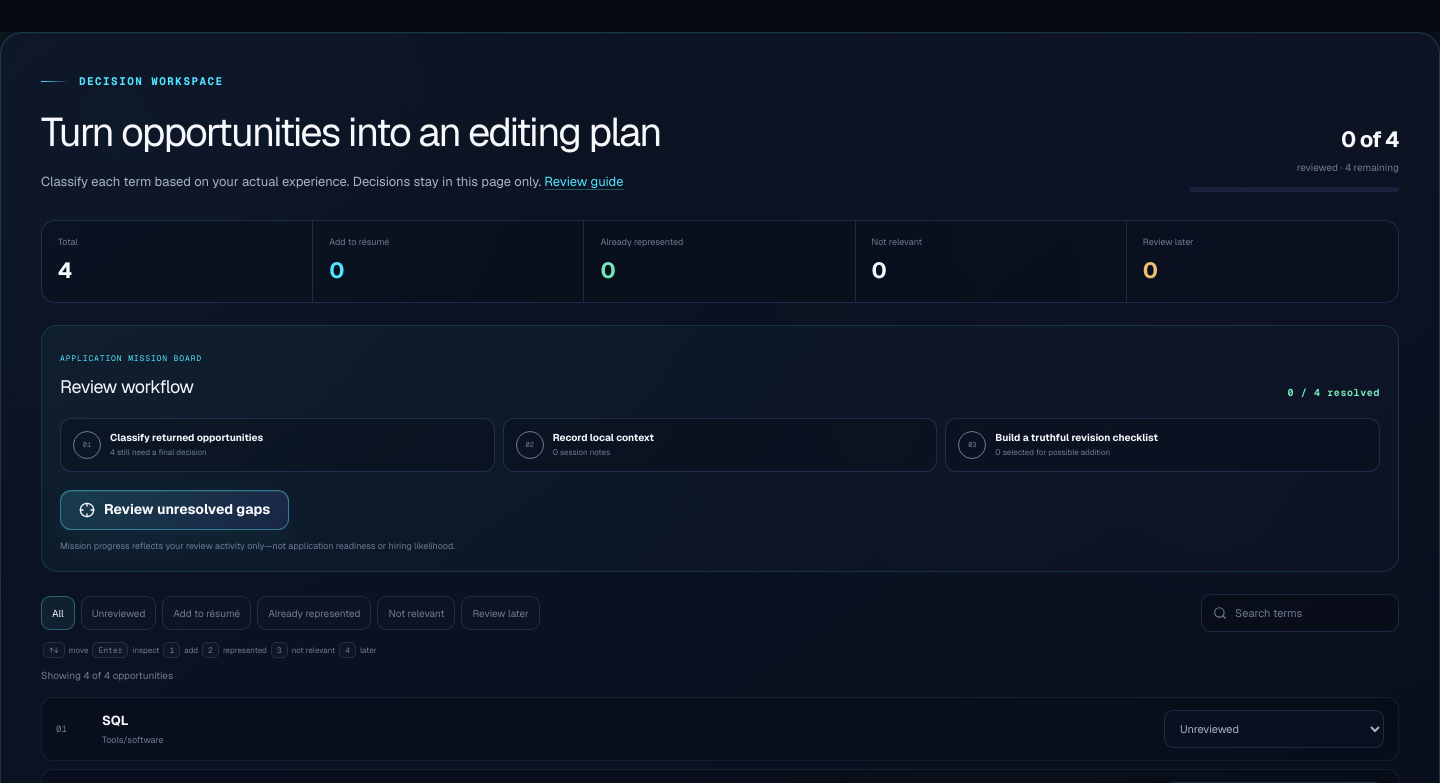
ReviewWorkspace › starts unreviewed and tracks every status and status change
The image size is (1440, 783).
Expected: the text "0 of 4" is shown, x1=1341 y1=125 x2=1399 y2=153
Expected: the text "reviewed · 4 remaining" is shown, x1=1297 y1=161 x2=1399 y2=174
Select "Add to résumé" in the dropdown named "Review status for SQL" in the row of "SQL": point(1274, 729) x1=1164 y1=710 x2=1384 y2=748
(page scrolled)
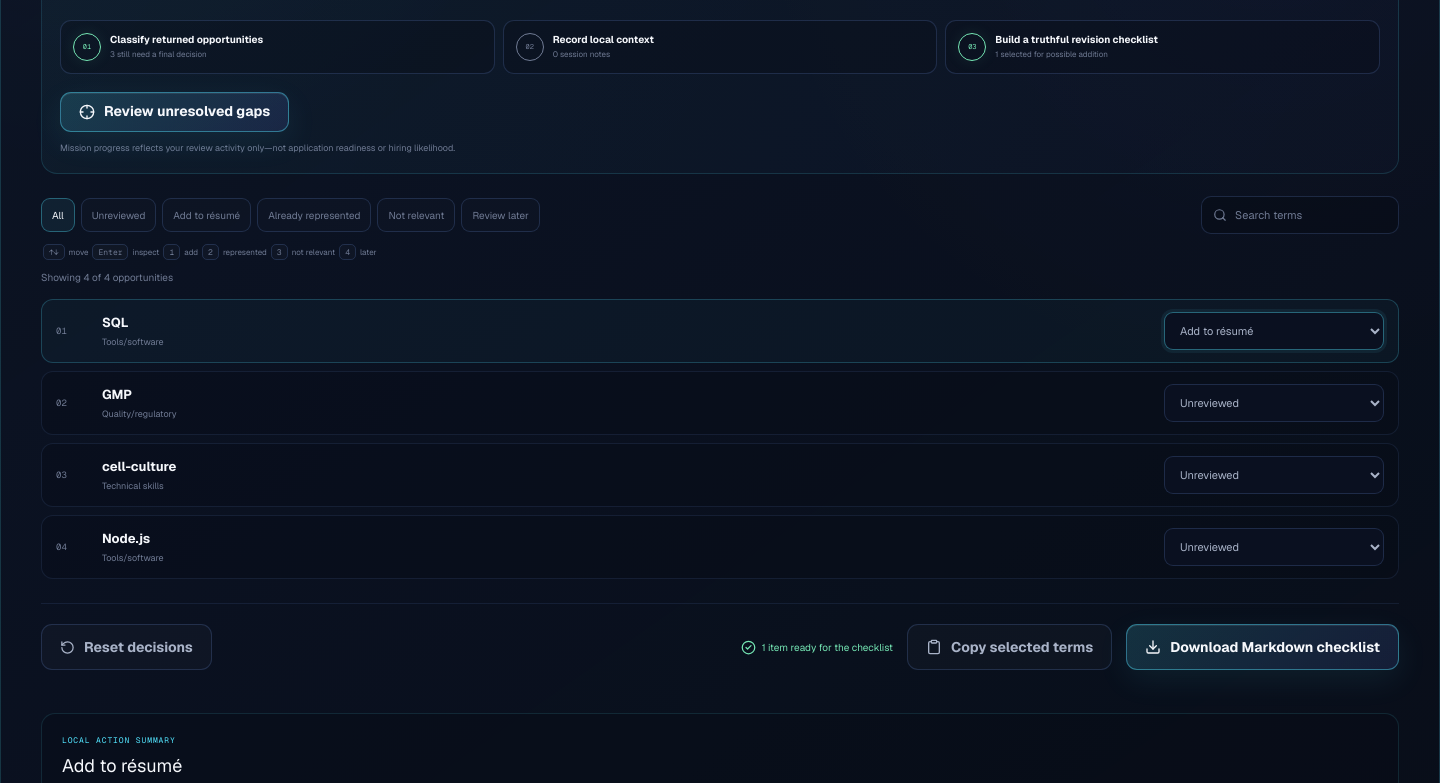
Select "Already represented" in the dropdown named "Review status for GMP" in the row of "Quality/regulatory": point(1274, 403) x1=1164 y1=384 x2=1384 y2=422
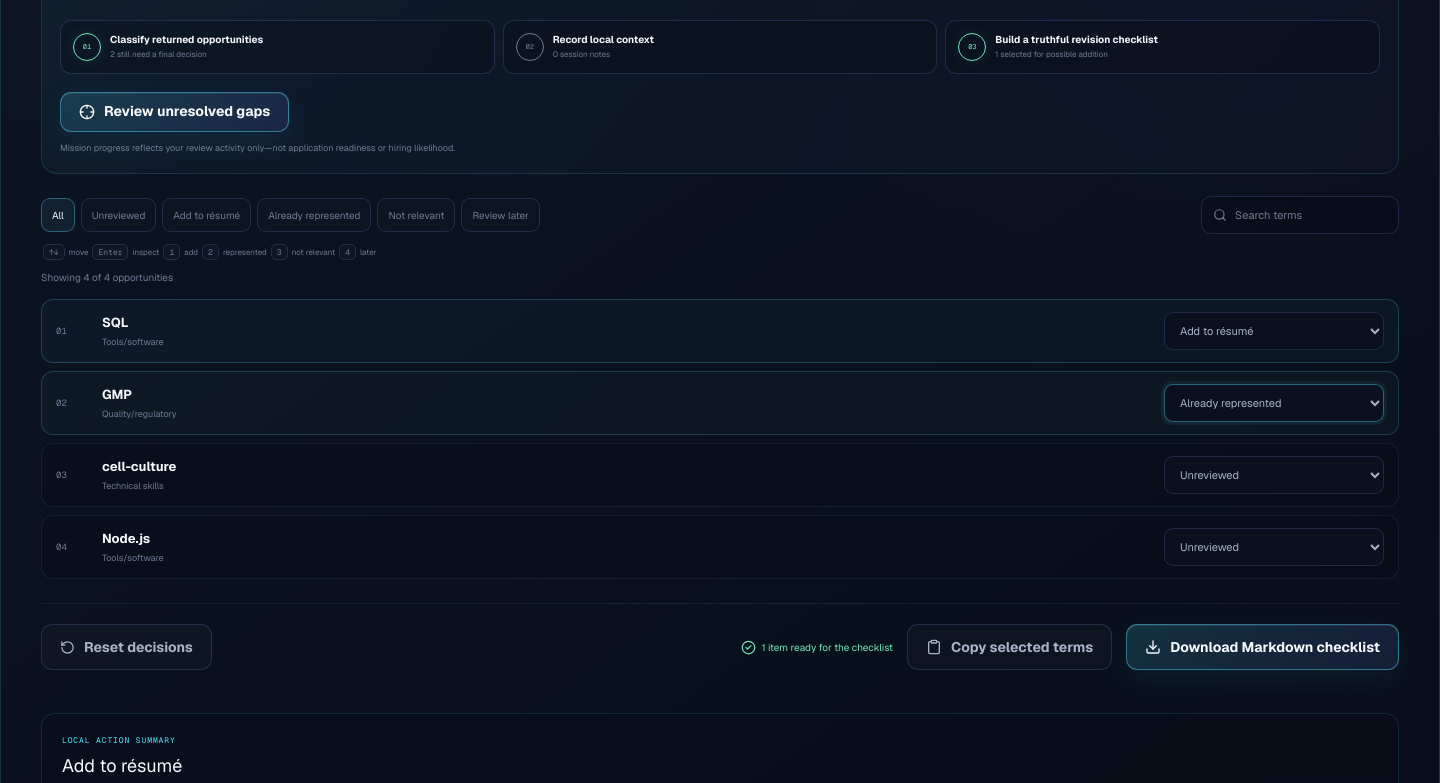
Select "Not relevant" in the dropdown named "Review status for cell-culture" in the row of "cell-culture": point(1274, 475) x1=1164 y1=456 x2=1384 y2=494
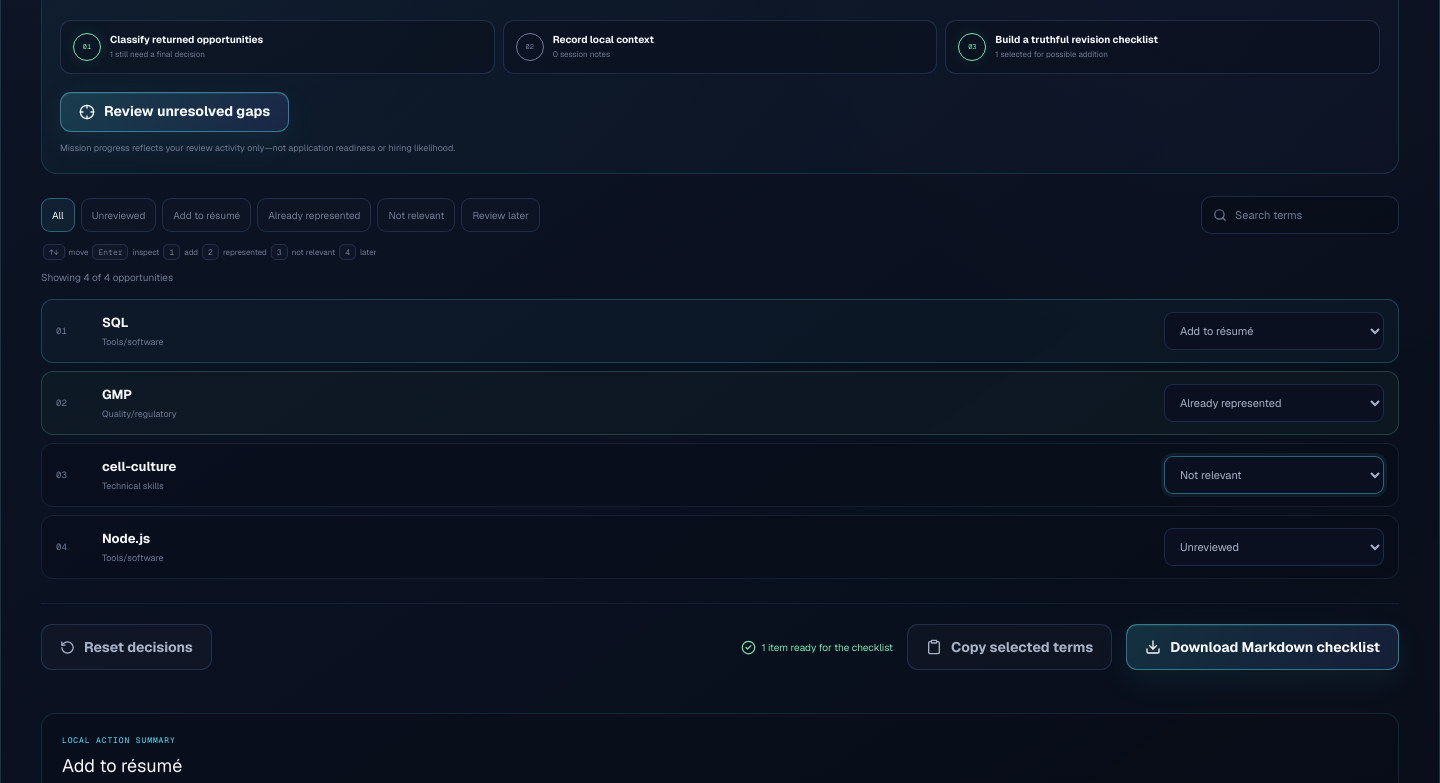
Select "Review later" in the dropdown named "Review status for Node.js" in the row of "Node.js": point(1274, 547) x1=1164 y1=528 x2=1384 y2=566
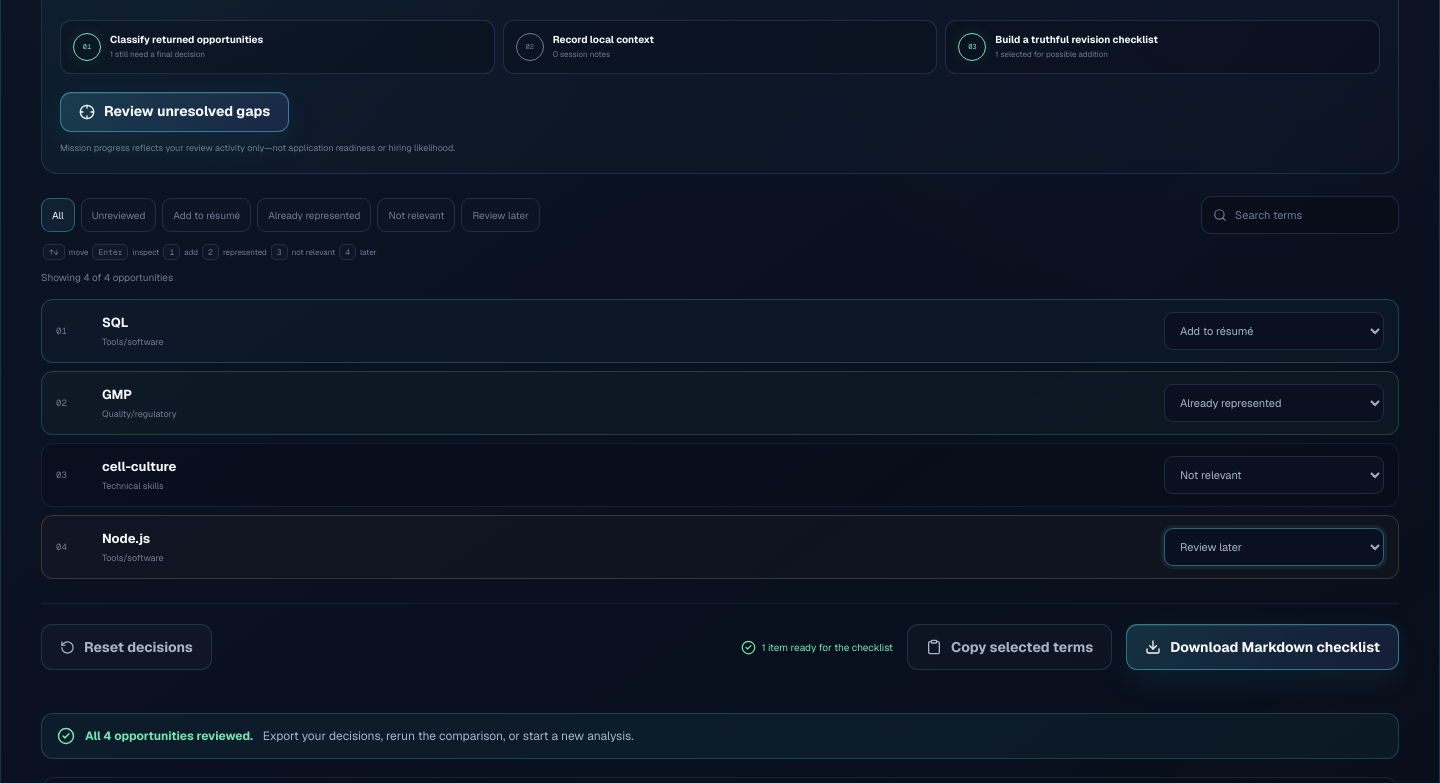
Select "Review later" in the 1st dropdown named "Review status for SQL": point(1274, 331) x1=1164 y1=312 x2=1384 y2=350
(page scrolled)
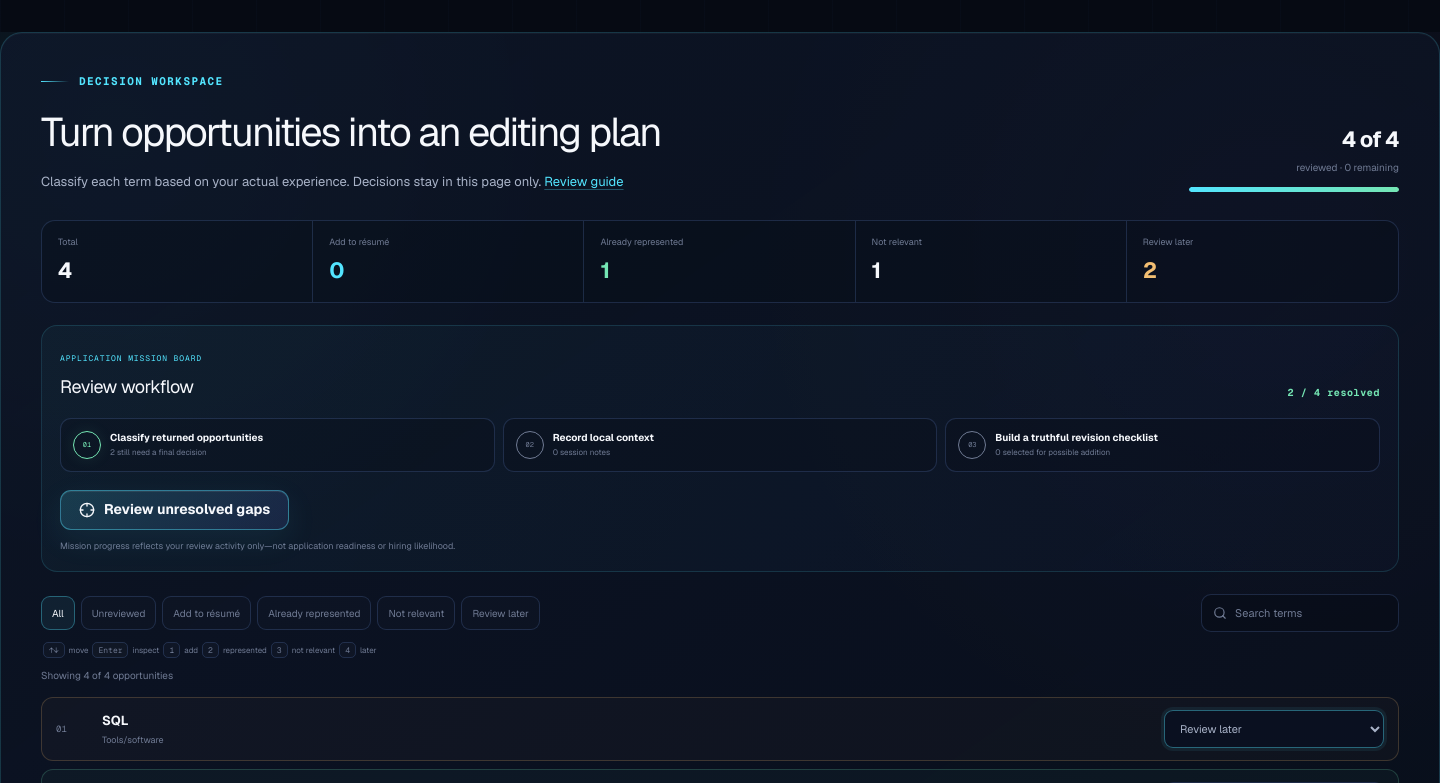
Expected: the text "0" is shown, x1=329 y1=256 x2=344 y2=284
Expected: the 1st text "2" is shown, x1=1143 y1=256 x2=1157 y2=284
